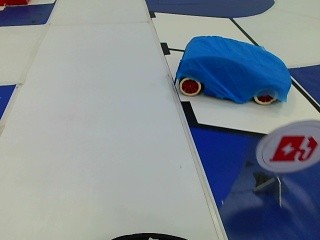battery: (273, 128, 318, 171)
car: (172, 31, 297, 110)
